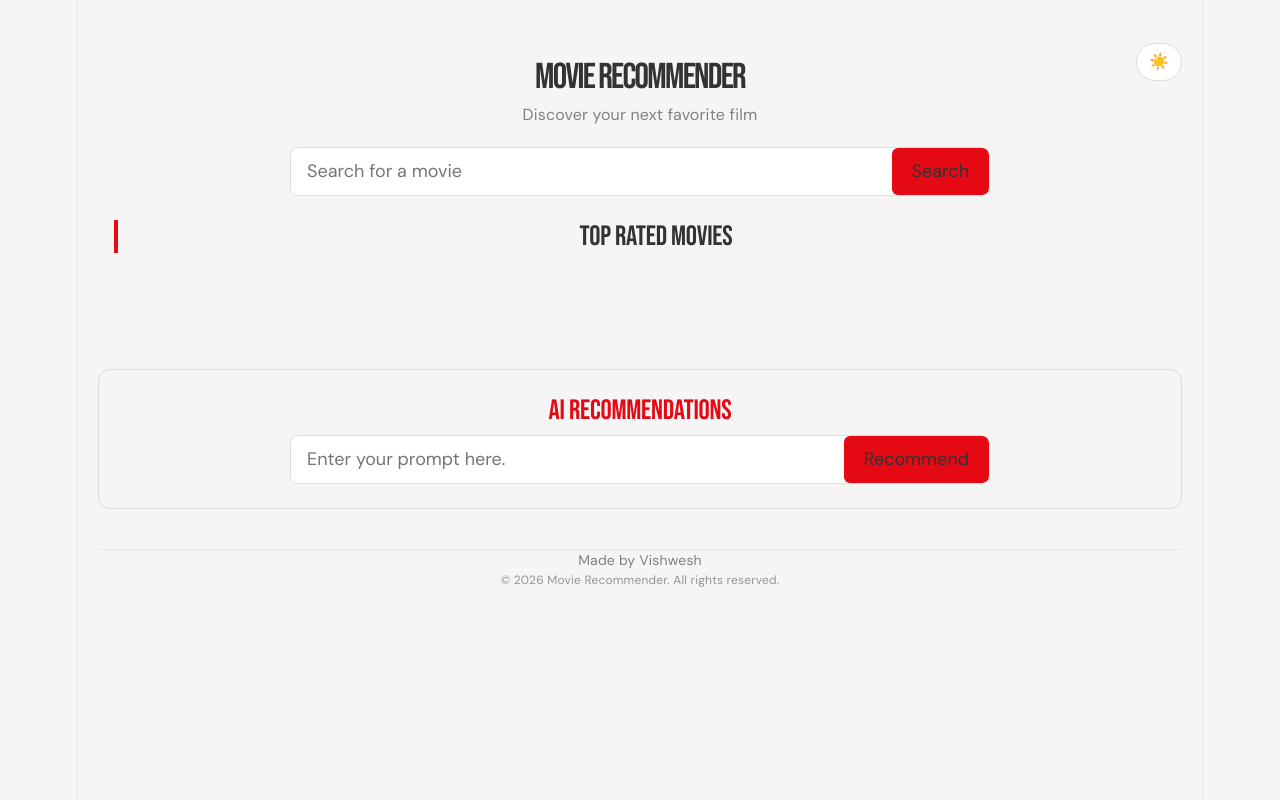
Test: App Component › shows error message when search fails
This screenshot has width=1280, height=800.
Type "Inception" into the field with placeholder "Search for a movie" at [591, 172], box [291, 148, 892, 195]
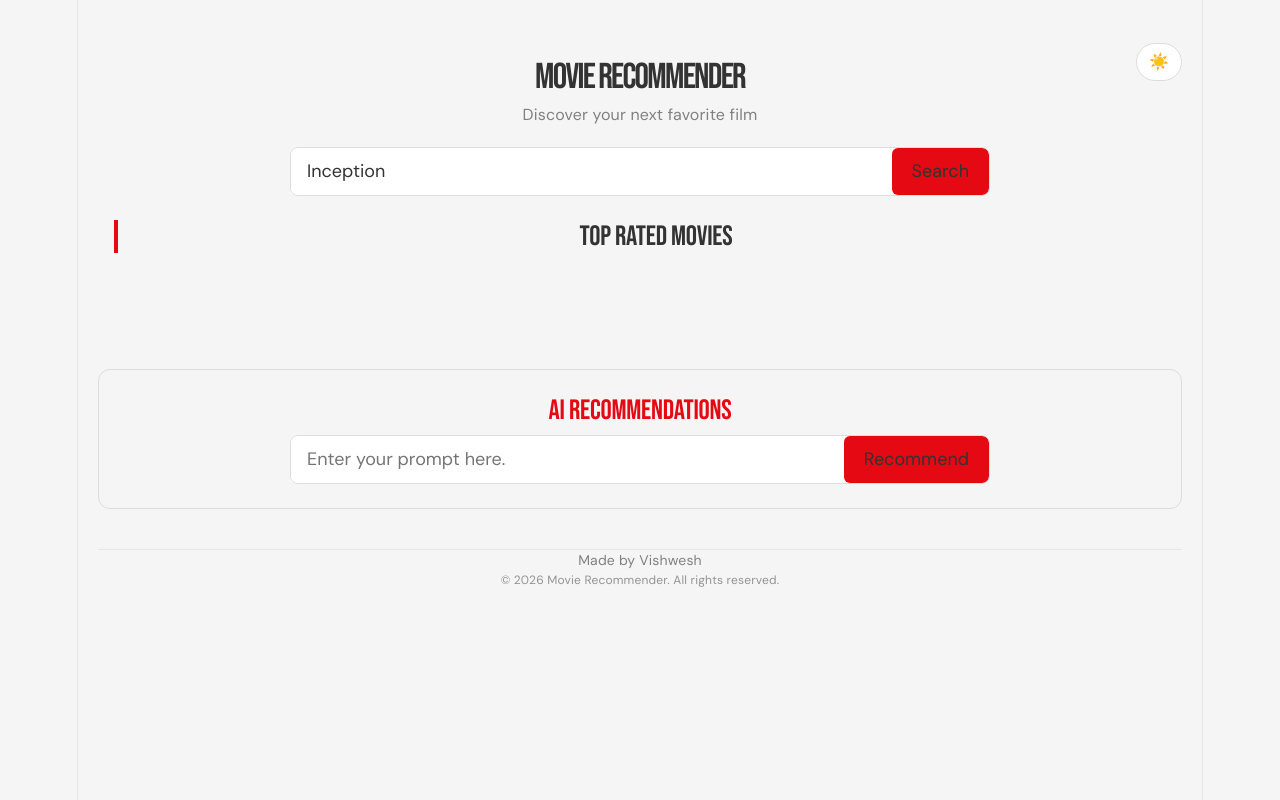
Click the button "Search" at [940, 172], box [892, 148, 989, 195]
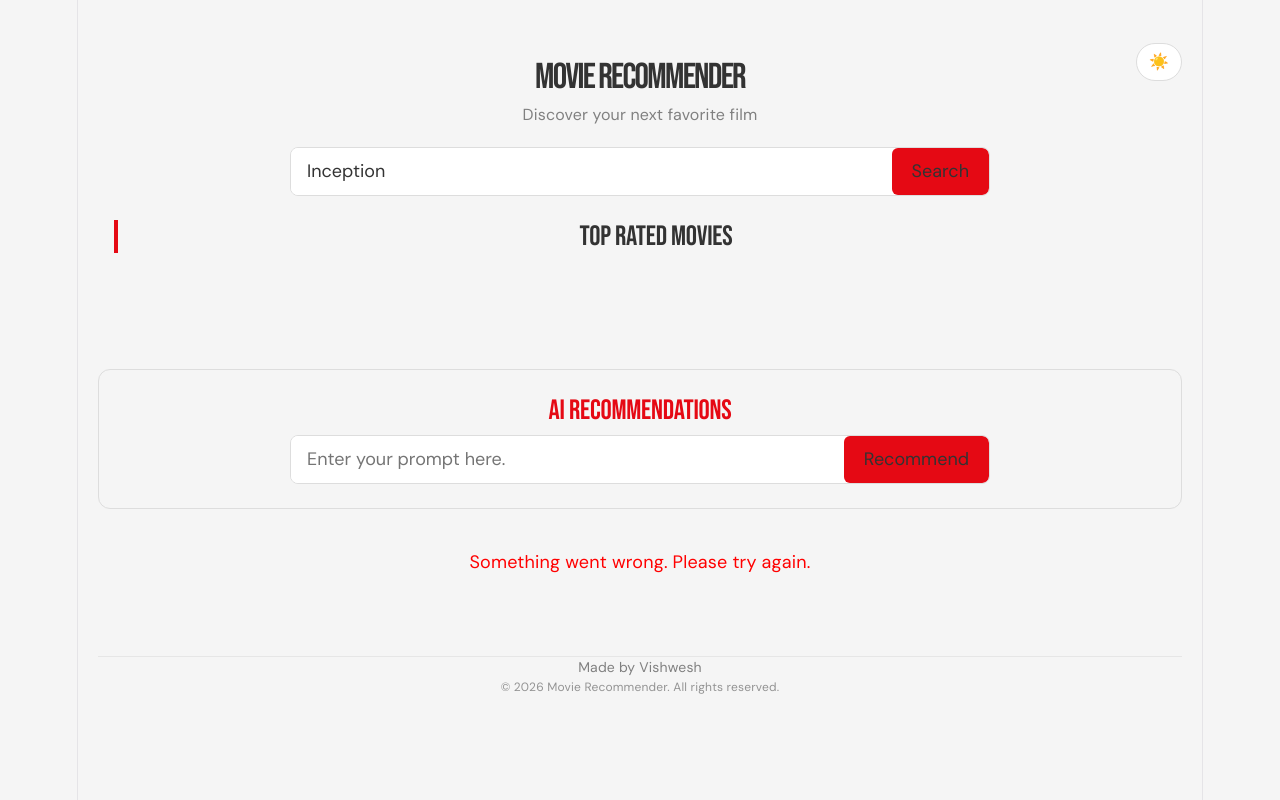
Expected: the text "Something went wrong. Please try again." is shown, [469, 550, 810, 574]
